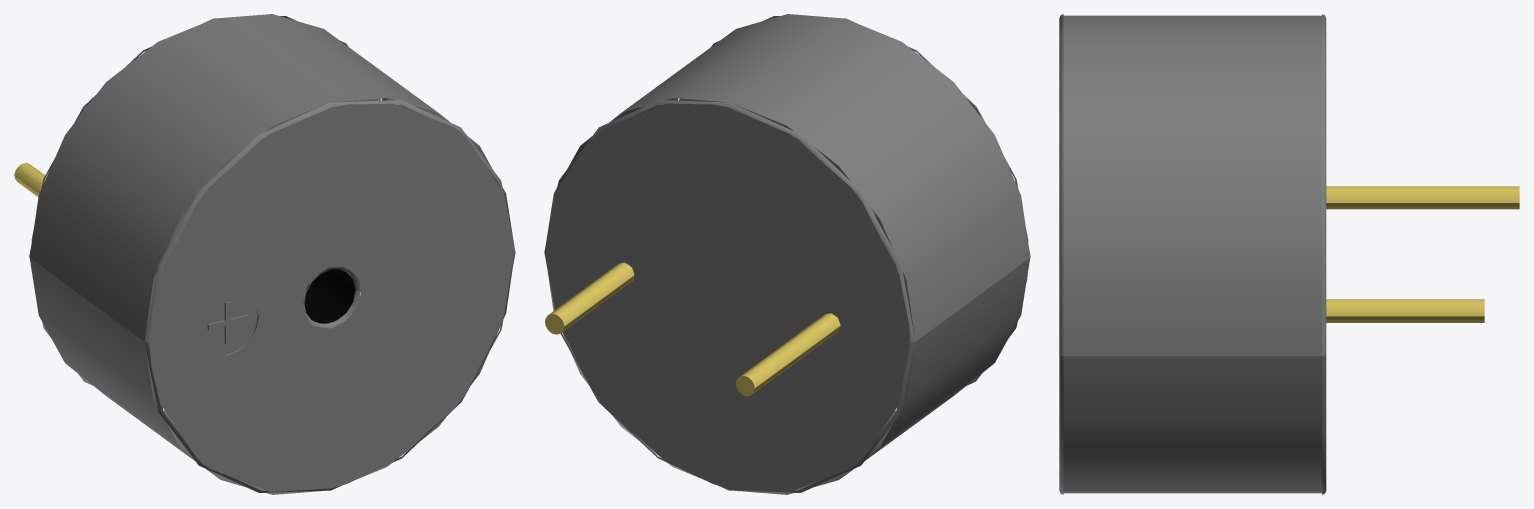
File: 蜂鳴器.fbx
The picture shows the model from 3 angles, left to right: view 1: azimuth 30°, elevation 25°; view 2: azimuth 150°, elevation 25°; view 3: azimuth 270°, elevation 25°; orthographic projection. The views are drawn at different scales.
Parts seen in each view (by area): view 1: ig_TrimmedParametricSurface69; view 2: ig_TrimmedParametricSurface69; view 3: ig_TrimmedParametricSurface69.
Part boxes in pixels (bbox=[...]): ig_TrimmedParametricSurface69: bbox=[14, 14, 515, 494]; ig_TrimmedParametricSurface69: bbox=[544, 14, 1030, 494]; ig_TrimmedParametricSurface69: bbox=[1059, 14, 1519, 494].
Size of the model in its own units: 1.37 by 1.37 by 1.31.
